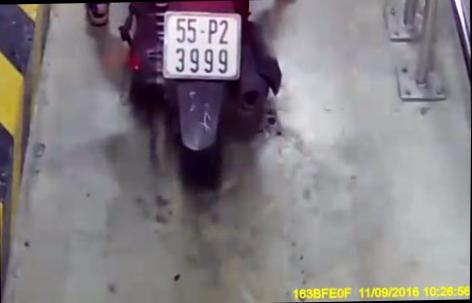LP: (161, 7, 243, 82)
